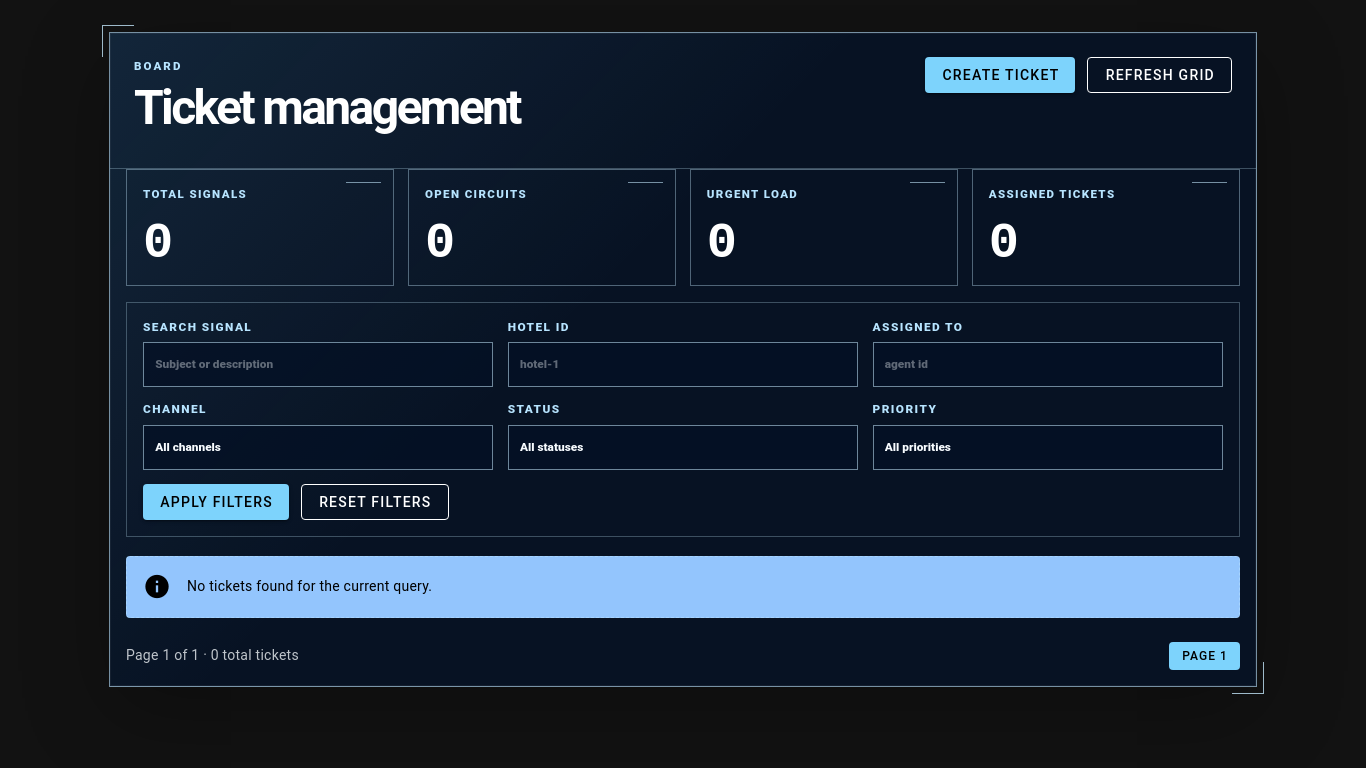
Test: TicketListView › submits a valid create payload, refreshes the list, and closes the form
Click the button "Create ticket" at (1000, 75), box [925,57,1076,93]
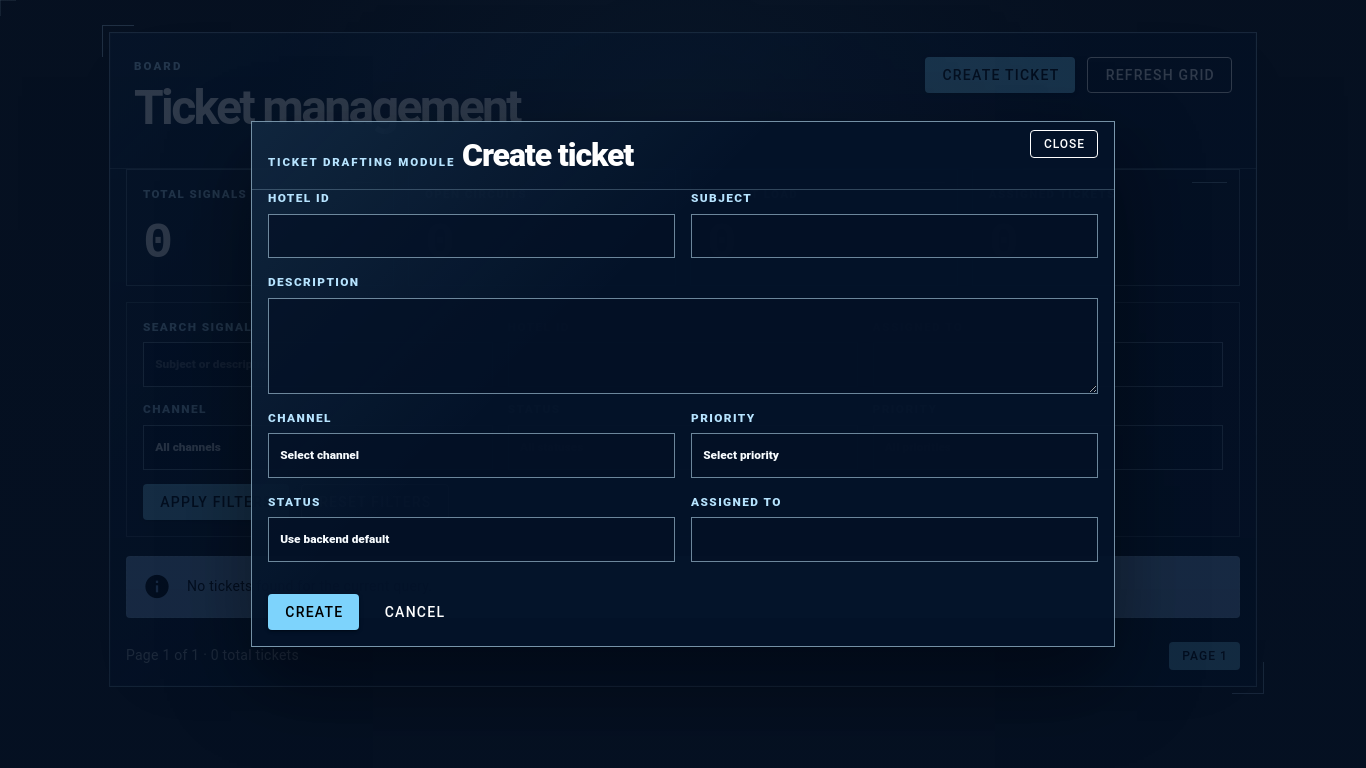
Type "hotel-1" into the field named "Hotel ID" at (472, 236), box [268,214,675,258]
Type "New ticket" into the field named "Subject" at (894, 236), box [691,214,1098,258]
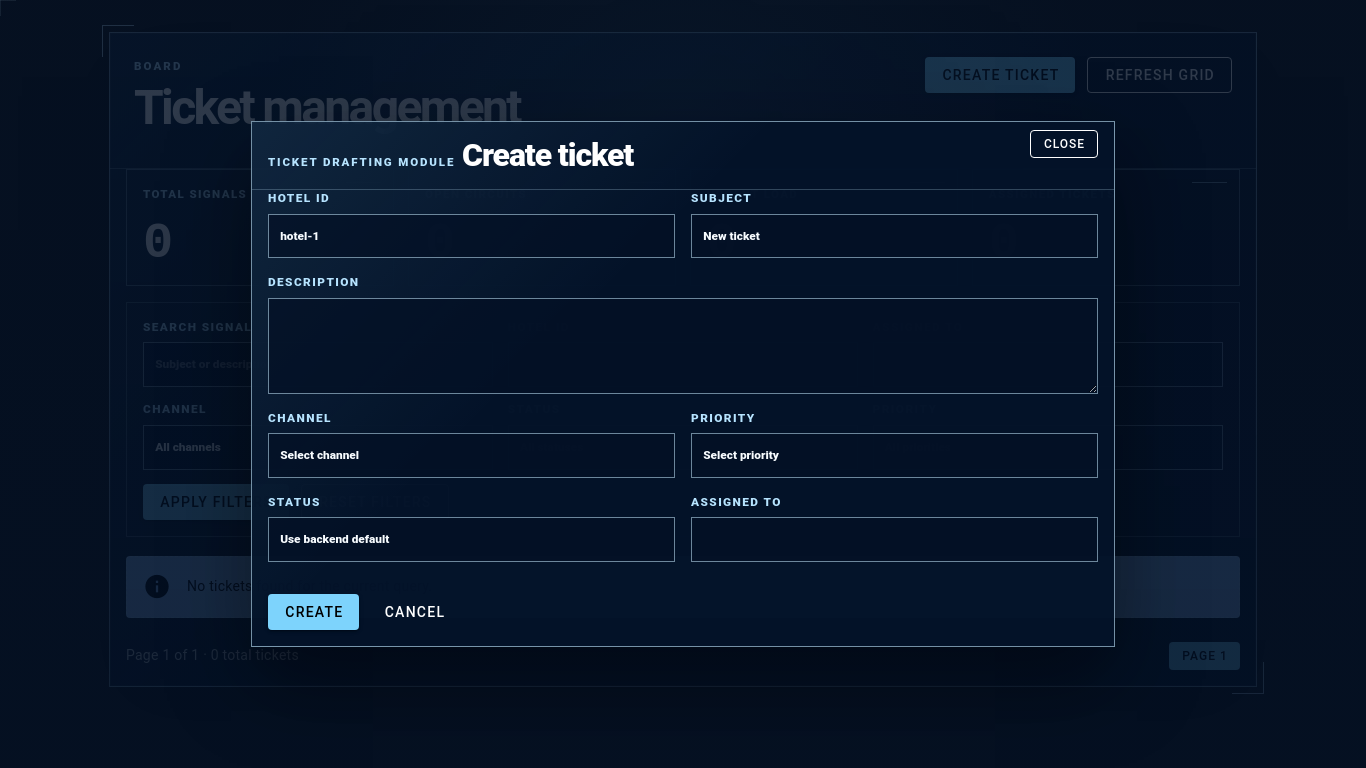
Type "A guest needs help" into the text box named "Description" at (683, 346), box [268,298,1098,394]
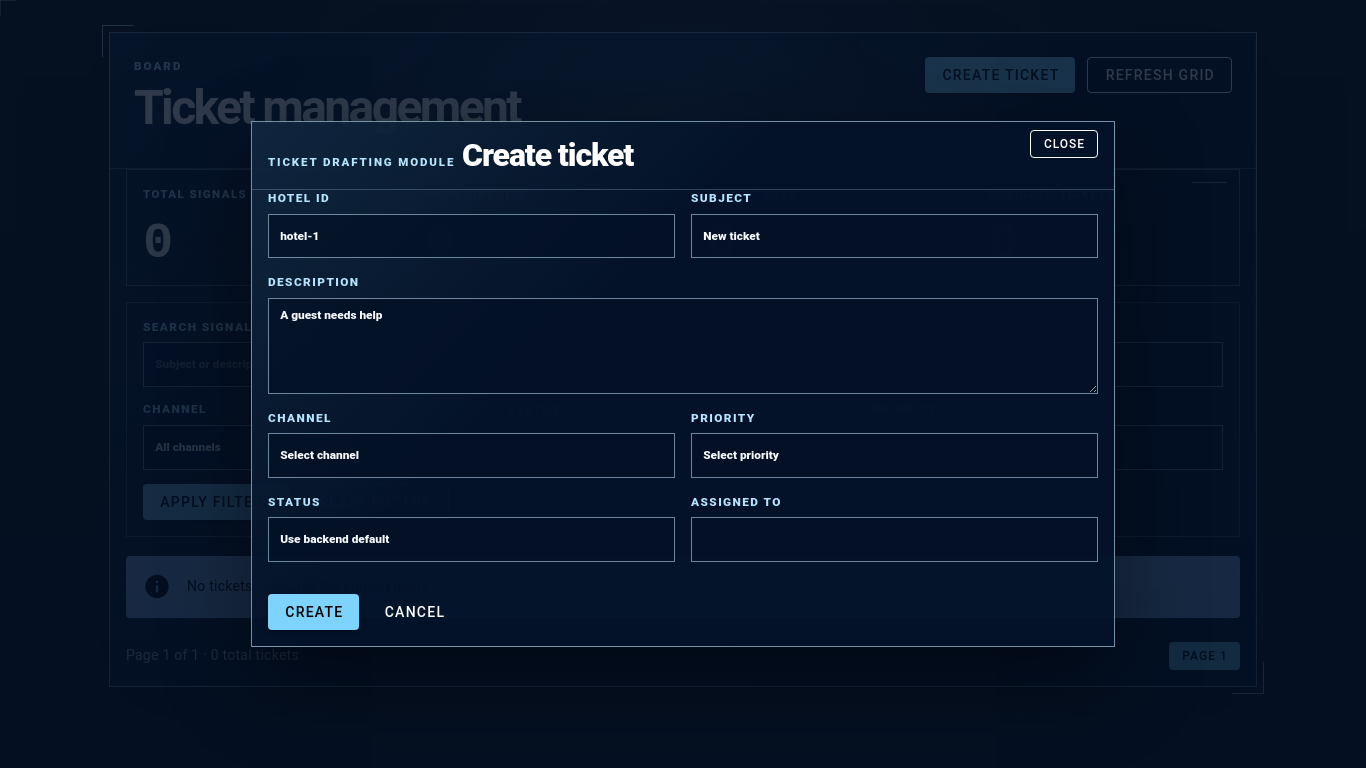
Select "email" in the dropdown named "Channel" at (472, 455), box [268,433,675,478]
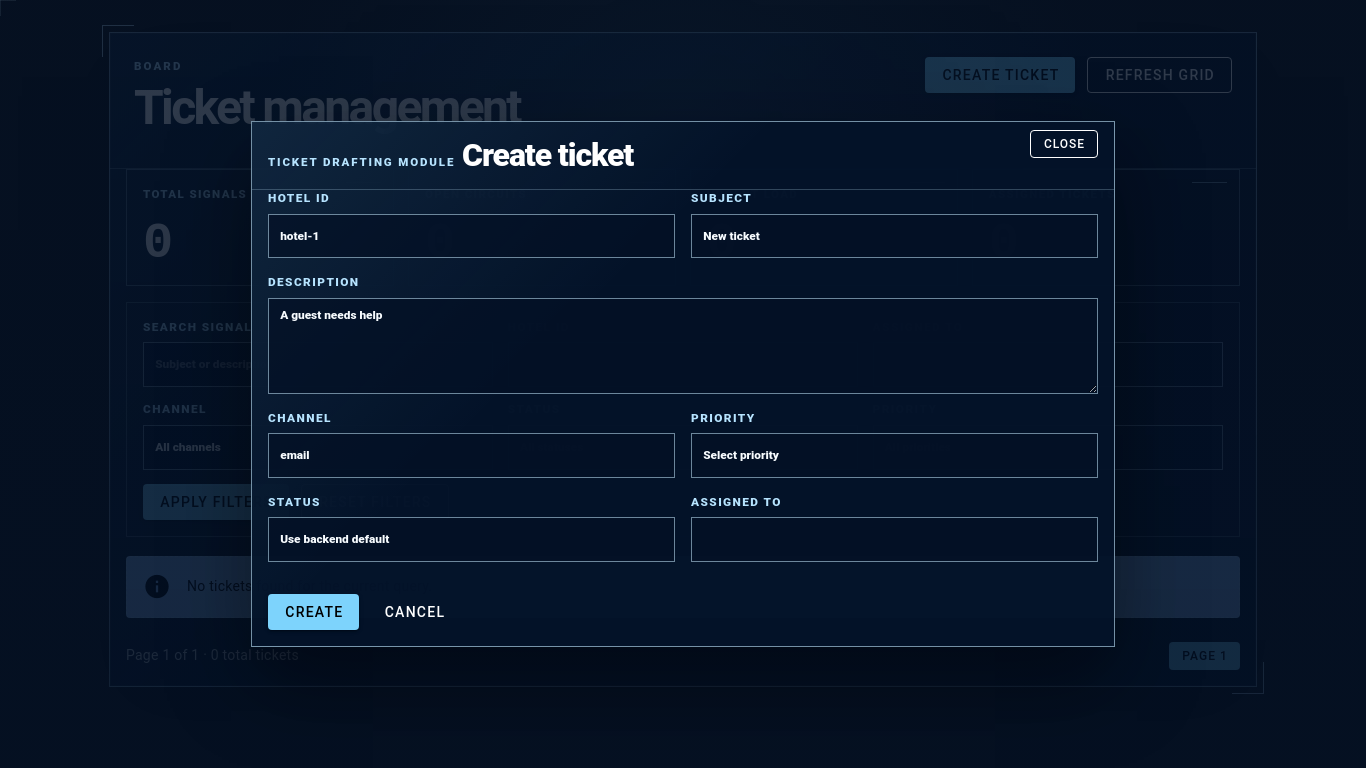
Select "medium" in the dropdown named "Priority" at (894, 455), box [691,433,1098,478]
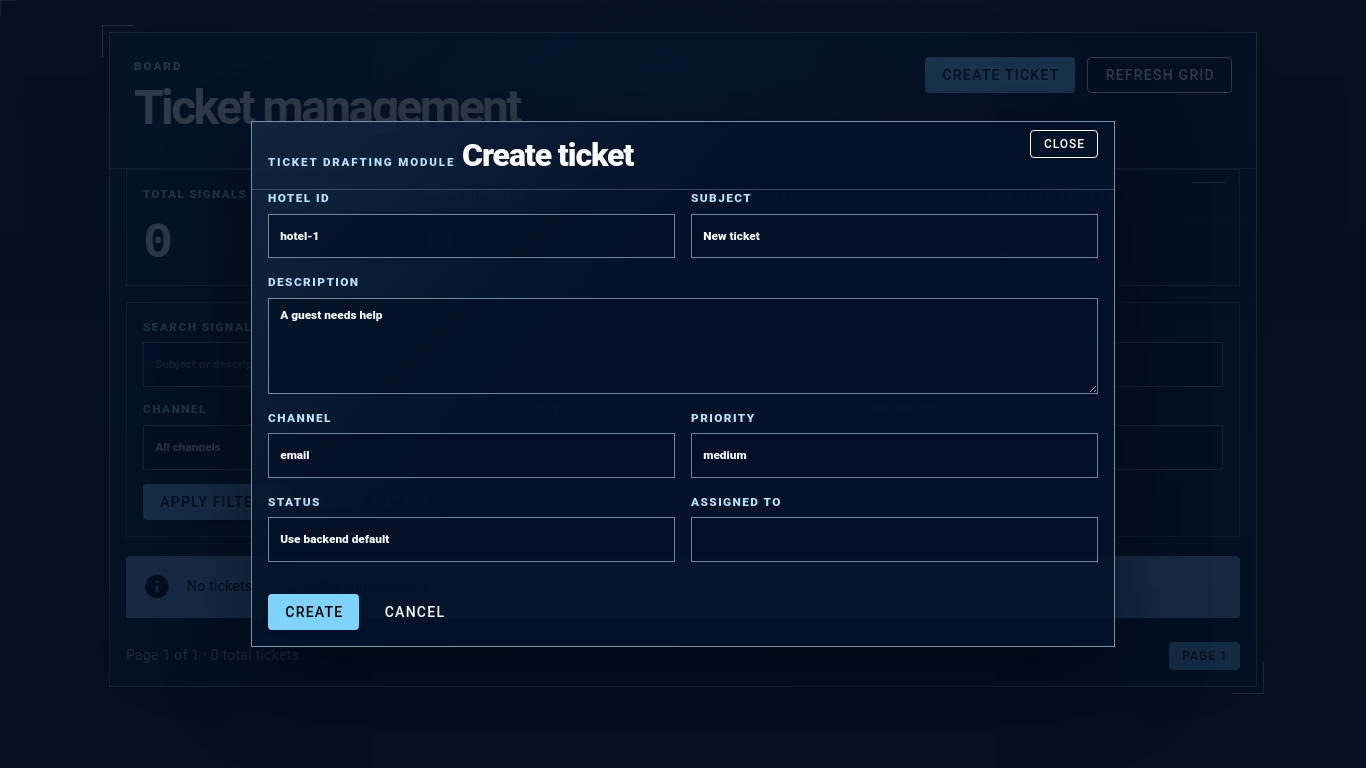
Click the button "Create" at (314, 612), box [268,594,360,630]
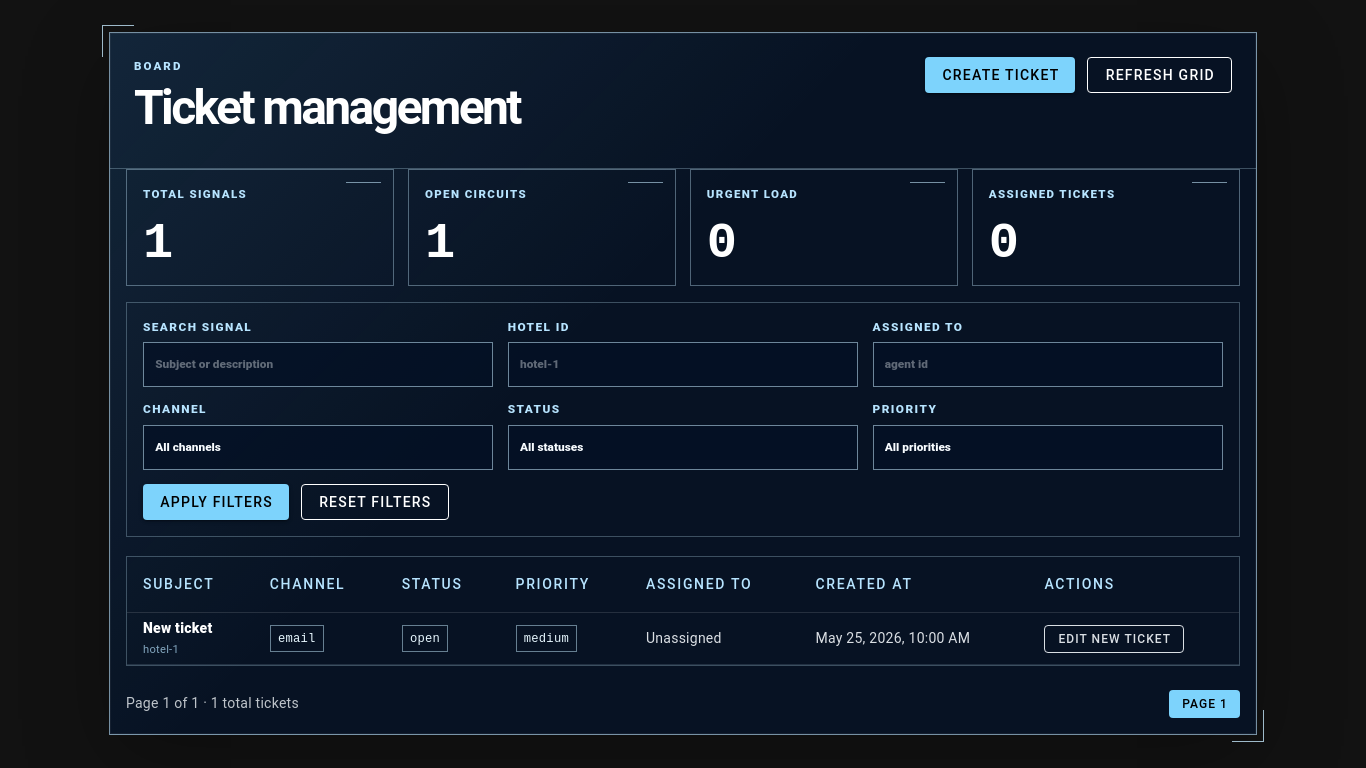
Result: the text "New ticket" is shown at [143,620,212,636]
